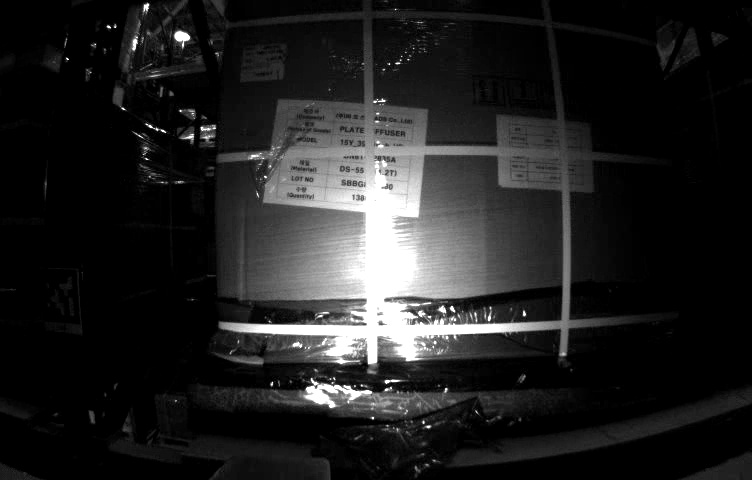True Barcode: (241, 44, 284, 80)
